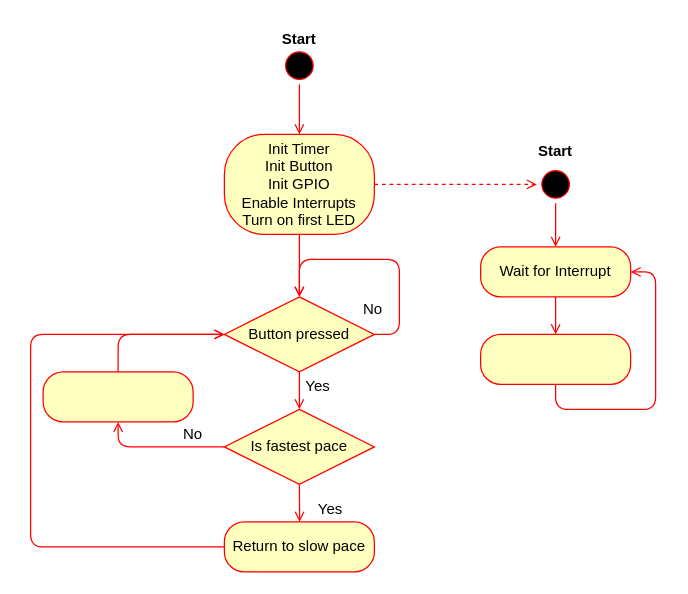
Some shapes in this 688 by 594 pixel diagram are drawn without their labels. The centre of each missing label's shape, as x and y in pixels:
"Increase pace" goes at (x=117, y=396).
"Toggle Led" goes at (x=555, y=358).
